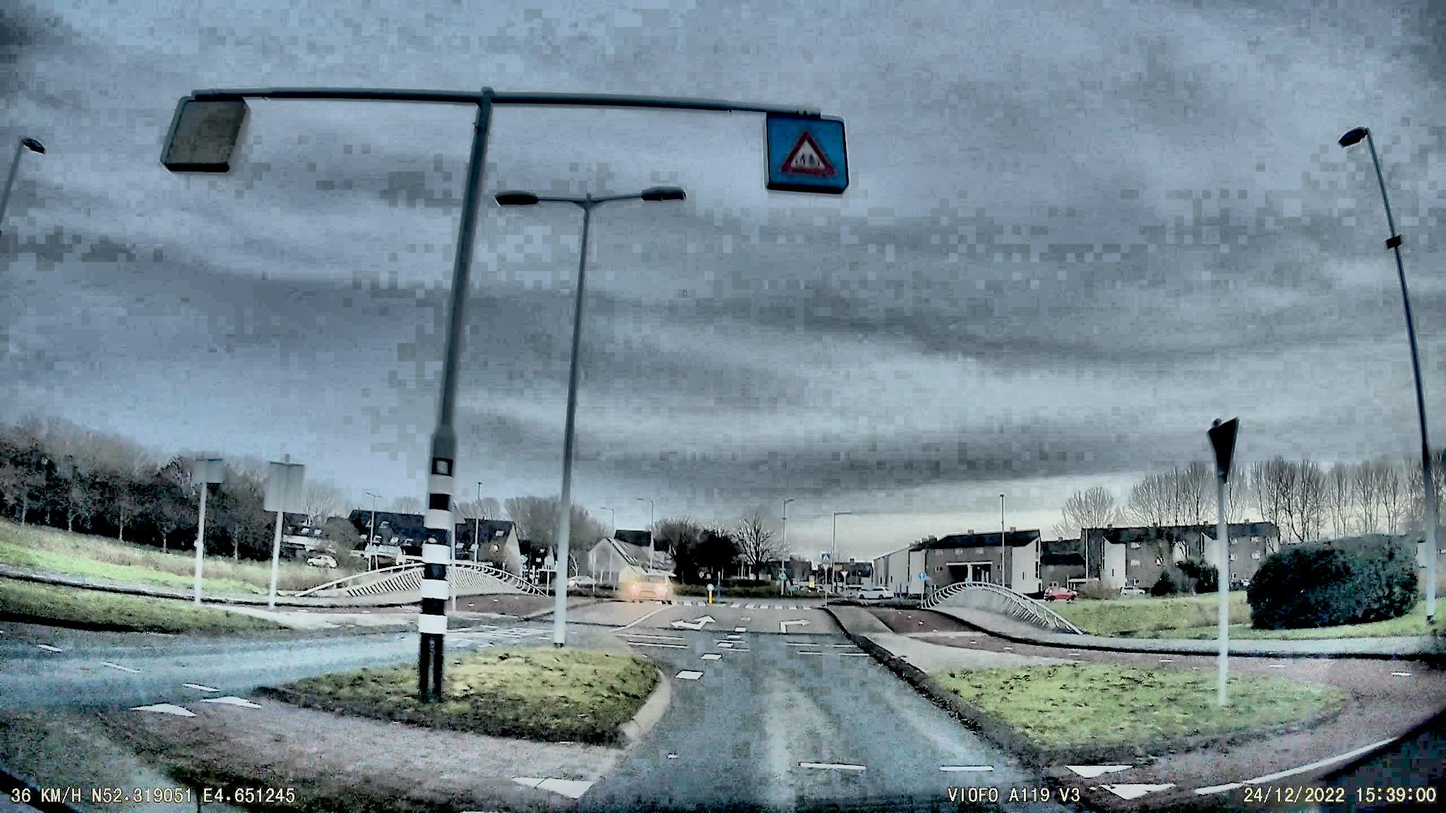Roads: (565, 605, 1087, 813)
